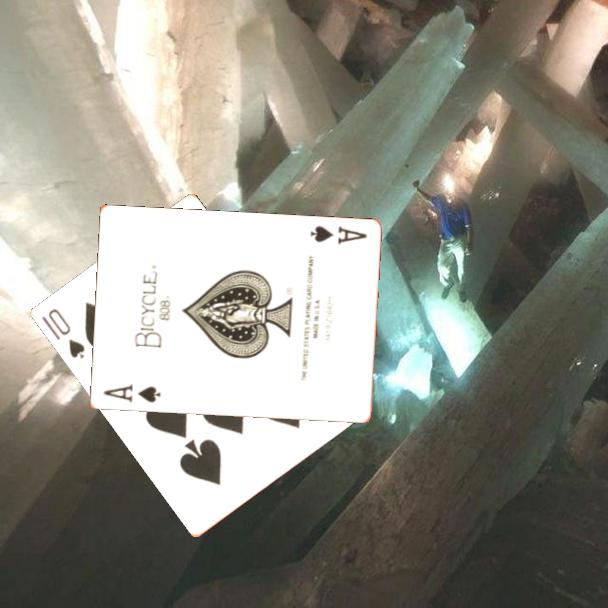s01: (100, 381, 163, 406), (307, 223, 370, 248)
s10: (39, 305, 88, 362)
